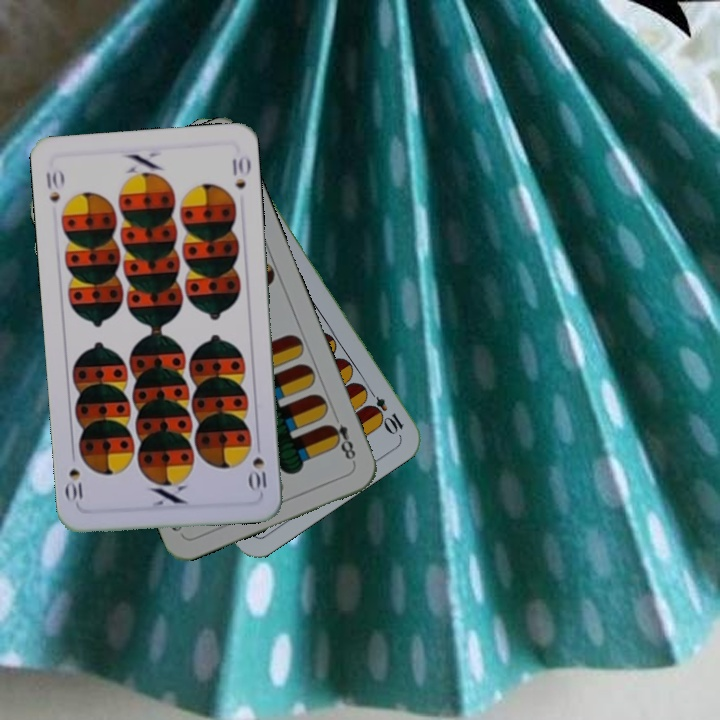E10: (362, 383, 406, 437)
E8: (324, 409, 359, 466)
S10: (247, 437, 269, 493), (41, 165, 66, 205)
